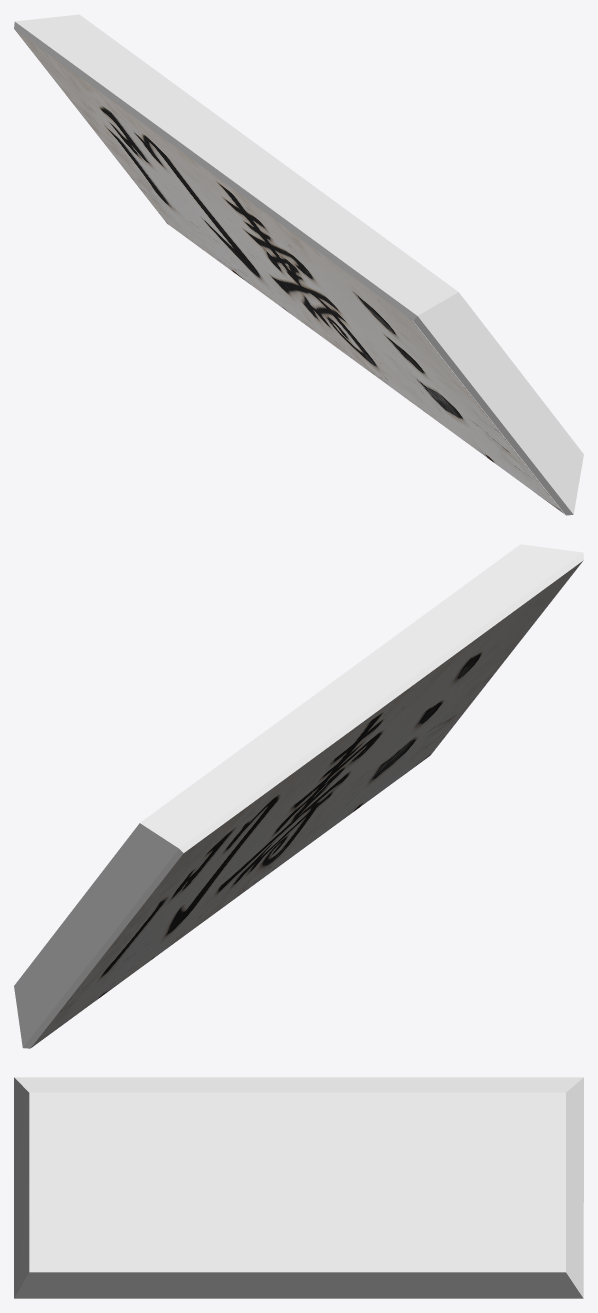
The model's file is SM_R_Sign_SS.fbx.
3 renders of one model, top to bottom at view 1: azimuth 30°, elevation 25°; view 2: azimuth 150°, elevation 25°; view 3: azimuth 270°, elevation 25°, orthographic. The views are drawn at different scales.
Visible parts, largest first — view 1: SM_R_Sign_SS; view 2: SM_R_Sign_SS; view 3: SM_R_Sign_SS.
Part boxes in pixels (left/top/right/bottom): SM_R_Sign_SS: left=14, top=14, right=583, bottom=515; SM_R_Sign_SS: left=14, top=544, right=583, bottom=1048; SM_R_Sign_SS: left=14, top=1077, right=583, bottom=1298.
Size of the model in its own units: 25.24 by 97.85 by 32.3.
1 material, 1 textured.
